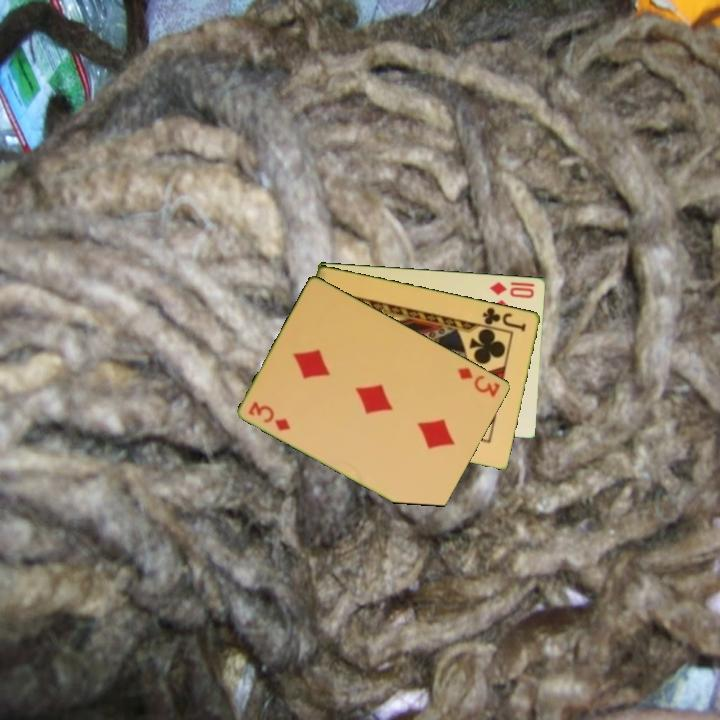10d: (487, 278, 537, 301)
3d: (245, 397, 294, 434), (454, 364, 503, 400)
Jc: (479, 303, 529, 334)
